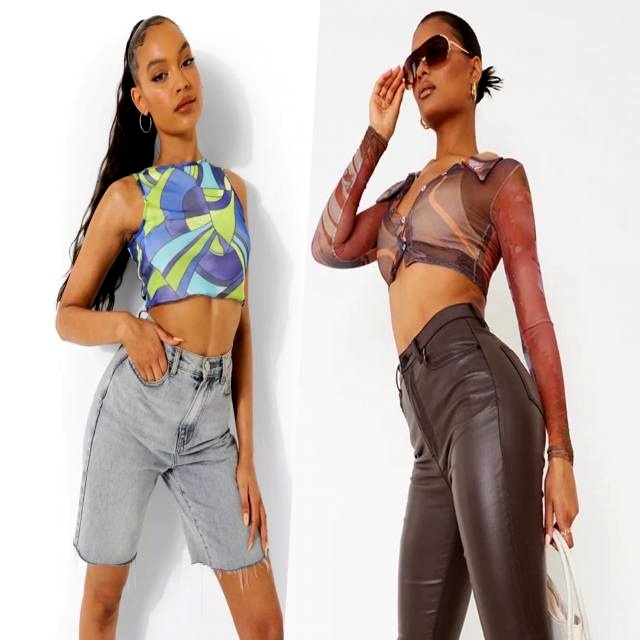Crop_Top: (133, 162, 251, 357), (376, 220, 491, 354)
Shorts: (71, 326, 283, 640)
Sleeveless: (105, 174, 143, 236), (223, 168, 248, 222)
low_neckline: (377, 157, 499, 259)
